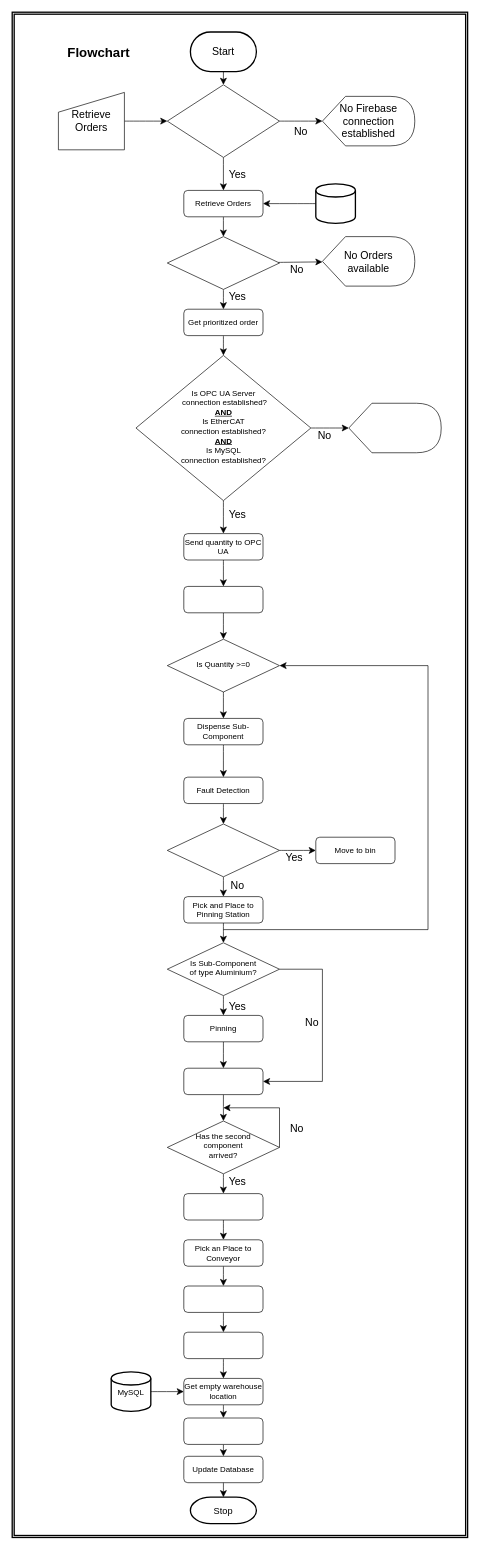
The diagram is 479 pixels wide and 1549 high, and some of its shapes have lost their labels. Here are the shapes that lost their labels. From the top down, the centre of each, then its label:
point 223,120: Is Firebase connection established?
point 335,203: Firebase
point 223,262: Are orders available?
point 394,428: No Connections Established
point 223,599: Start Production
point 223,850: Is Sub-Component defective?
point 223,1081: Pick an Place to Assembly Station
point 223,1206: Assembly
point 223,1298: Move to ASRS
point 223,1345: Start Storage
point 223,1430: Pick and Place to Warehouse
